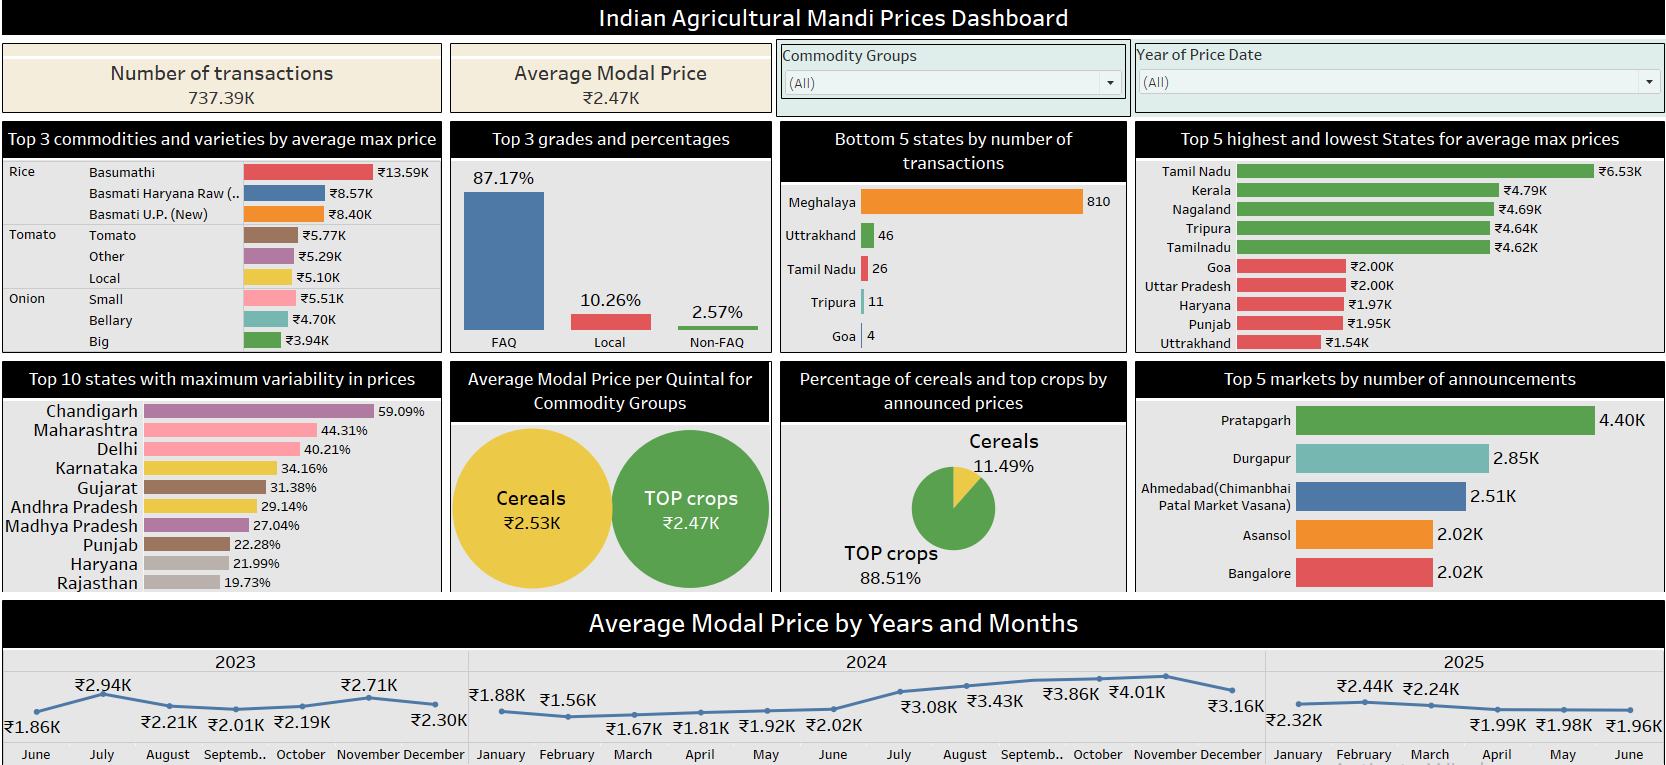

This screenshot's page, from the dashboard's own definition file:
{"tool":"tableau","page":{"name":"Dashboard 1","canvas":[1000,1000],"units":"permille","ordinal":0},"visuals":[{"type":"text","box":[4.2,9.9,991.5,55.5]},{"type":"worksheet","title":"Sheet 10","mark":"Automatic","box":[4.2,65.3,265.8,98.6]},{"type":"worksheet","title":"Sheet 11","mark":"Automatic","box":[270,65.3,195.7,98.6]},{"type":"filter","title":"Average Modal Price","param":"[federated.11so1x21ucn54v1fxfxne0ce27bk].[yr:Price Date:ok]","box":[676.6,65.3,319.1,77.7]},{"type":"filter","title":"Percentage of cereals and TOP crops","param":"[federated.11so1x21ucn54v1fxfxne0ce27bk].[Commodity Groups]","box":[466.3,66.6,209.8,77.7]},{"type":"worksheet","title":"Top 3 Commodities and Varieties by max price","mark":"Automatic","rows":["Commodity","Variety"],"cols":["Max_Price"],"box":[4.2,164,265.8,303.3]},{"type":"worksheet","title":"Top 3 grades and percentage","mark":"Automatic","cols":["Grade"],"box":[270,164,195.8,303.3]},{"type":"worksheet","title":"Bottom 5 states number of transactions","mark":"Automatic","rows":["Calculation_1071575291081785348"],"cols":["Agriculture_price_dataset.csv_81C84A6B8958440F858DB5F08F7000"],"box":[465.8,164,210.9,303.3]},{"type":"worksheet","title":"Top 5 highest and lowest average max price offering states","mark":"Automatic","cols":["Max_Price"],"box":[676.6,164,319.1,303.3]},{"type":"worksheet","title":"Top 10 Variable states","mark":"Automatic","rows":["Calculation_1071575291081785348"],"cols":["Calculation_1071575291098927114"],"box":[4.2,467.3,265.8,303.3]},{"type":"worksheet","title":"Average Modal Price/quintal for cereals vs TOP crops","mark":"Circle","box":[270,467.3,195.8,303.3]},{"type":"worksheet","title":"Percentage of cereals and TOP crops","mark":"Pie","box":[465.8,467.3,210.9,303.3]},{"type":"worksheet","title":"Top 5 markets by number of offerings","mark":"Automatic","rows":["Market Name"],"cols":["Agriculture_price_dataset.csv_81C84A6B8958440F858DB5F08F7000"],"box":[676.6,467.3,319.1,303.3]},{"type":"worksheet","title":"Average Modal Price","mark":"Line","rows":["Modal_Price"],"cols":["Price Date","Price Date"],"box":[4.2,770.6,991.5,219.5]}]}

Visuals, with their boxes on the dashboard's canvas, which has no fixed pixel size, in thousandths of its width and height (x1, y1, x2, y2). These are canvas units, not pixel positions in the 1666x765 screenshot, which may show the page scaled, cropped or inside an application window:
text: (x1=4, y1=10, x2=996, y2=65)
"Sheet 10" worksheet: (x1=4, y1=65, x2=270, y2=164)
"Sheet 11" worksheet: (x1=270, y1=65, x2=466, y2=164)
"Average Modal Price" filter: (x1=677, y1=65, x2=996, y2=143)
"Percentage of cereals and TOP crops" filter: (x1=466, y1=67, x2=676, y2=144)
"Top 3 Commodities and Varieties by max price" worksheet: (x1=4, y1=164, x2=270, y2=467)
"Top 3 grades and percentage" worksheet: (x1=270, y1=164, x2=466, y2=467)
"Bottom 5 states number of transactions" worksheet: (x1=466, y1=164, x2=677, y2=467)
"Top 5 highest and lowest average max price offering states" worksheet: (x1=677, y1=164, x2=996, y2=467)
"Top 10 Variable states" worksheet: (x1=4, y1=467, x2=270, y2=771)
"Average Modal Price/quintal for cereals vs TOP crops" worksheet (Circle marks): (x1=270, y1=467, x2=466, y2=771)
"Percentage of cereals and TOP crops" worksheet (Pie marks): (x1=466, y1=467, x2=677, y2=771)
"Top 5 markets by number of offerings" worksheet: (x1=677, y1=467, x2=996, y2=771)
"Average Modal Price" worksheet (Line marks): (x1=4, y1=771, x2=996, y2=990)
